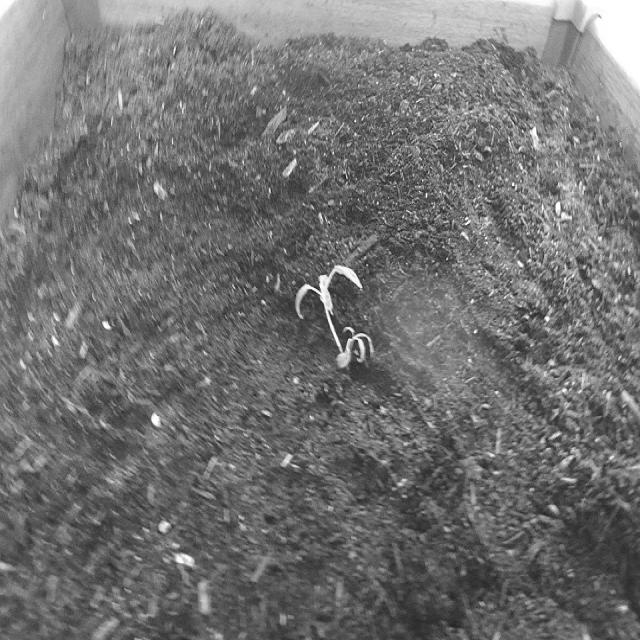Unhealthy: (293, 259, 378, 374)
